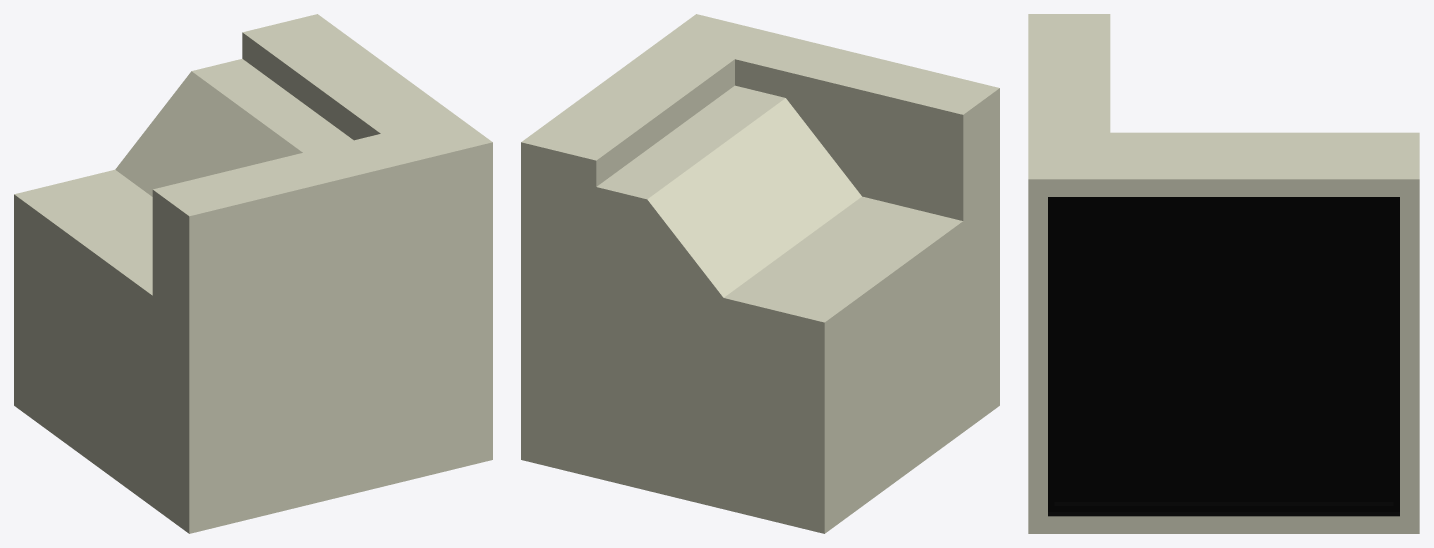
File: COMPUTER3D2.glb
The picture shows the model from 3 angles, left to right: view 1: azimuth 30°, elevation 25°; view 2: azimuth 150°, elevation 25°; view 3: azimuth 270°, elevation 25°; orthographic projection. The views are drawn at different scales.
Visible parts, largest first — view 1: Cube; view 2: Cube; view 3: ScreenIcon, Cube.
Part boxes in pixels (x1,y1,x2,y2): Cube: (14,14,492,533); Cube: (521,14,999,533); ScreenIcon: (1054,198,1393,501); Cube: (1028,14,1419,533).
Size of the model in its own units: 0.32 by 0.32 by 0.32.
